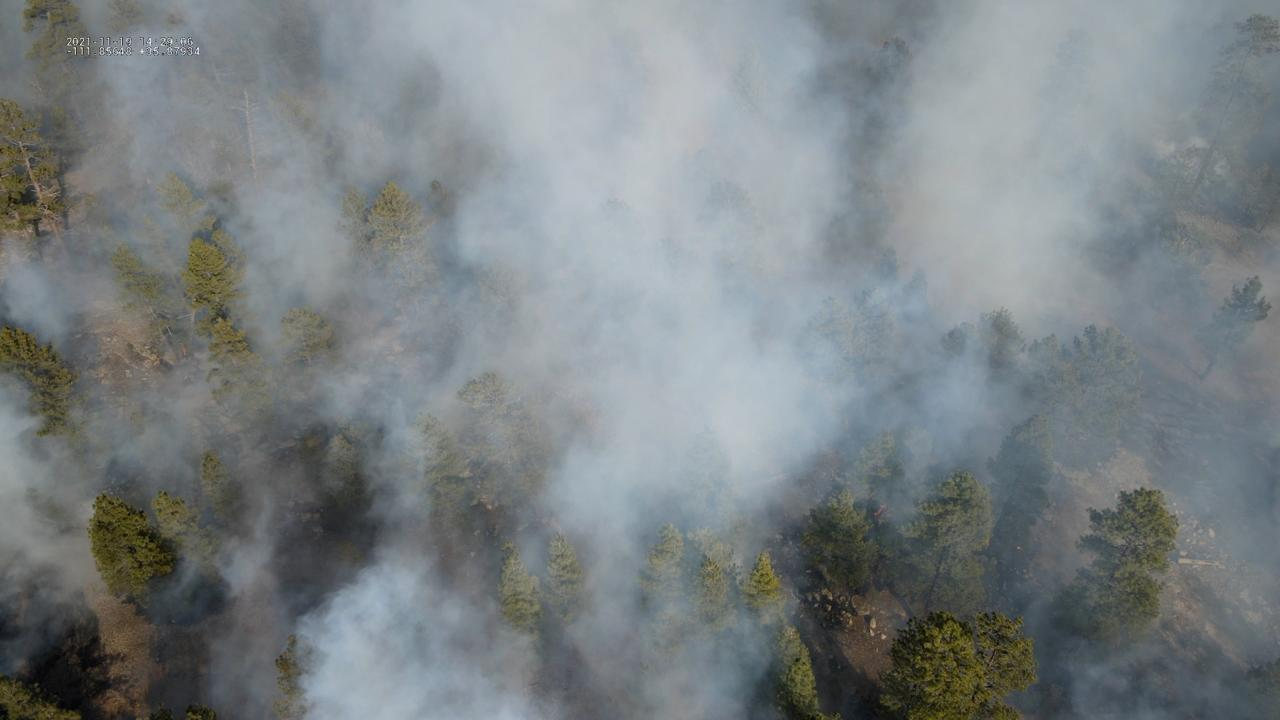fire: (873, 503, 886, 517)
smoke: (0, 0, 1280, 720)
